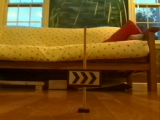right: (68, 70, 100, 86)
